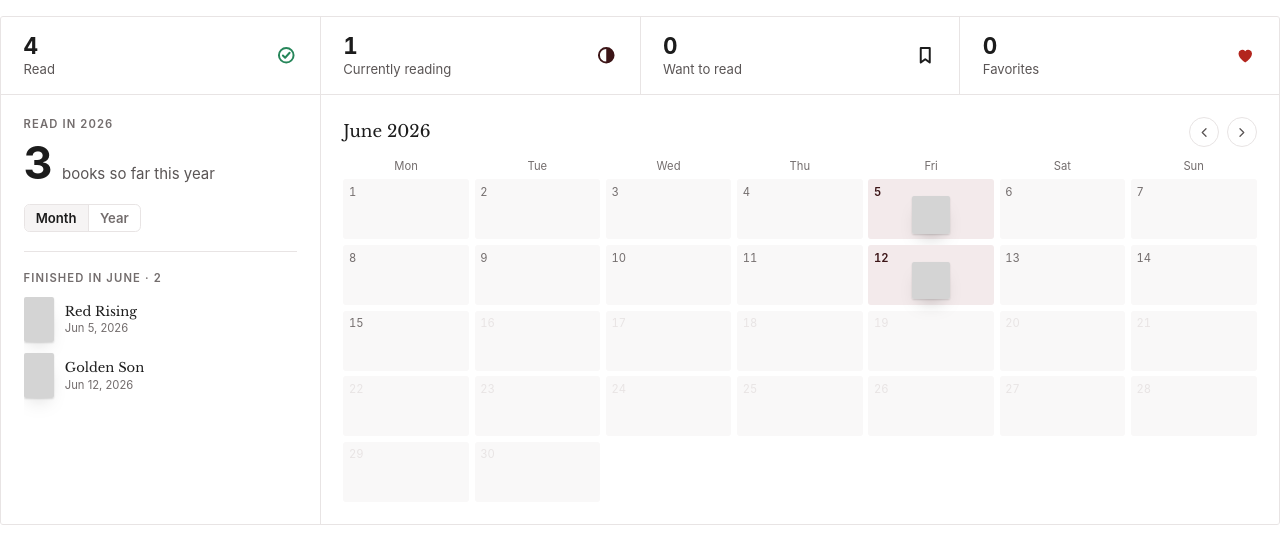
it: ReadingStats › should step to the previous month
The image size is (1280, 542).
Click the button named "Previous month" at (1204, 132), box [1189, 117, 1219, 147]
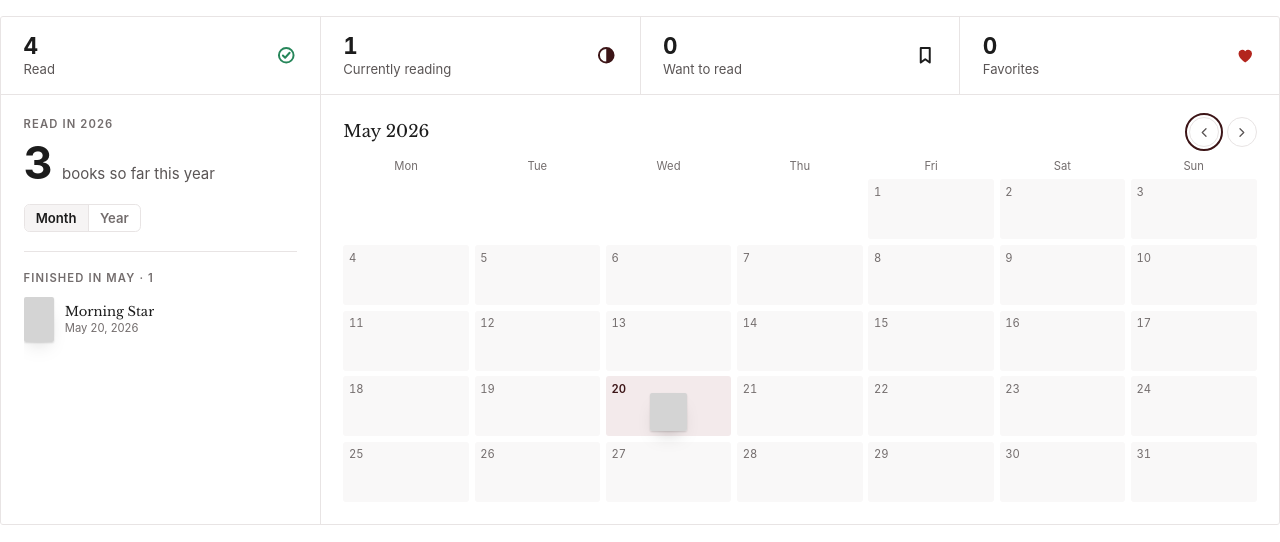
Check: the text "May 2026" is shown, box [343, 119, 429, 146]
Check: the text "Finished in May · 1" is shown, box [24, 271, 154, 285]
